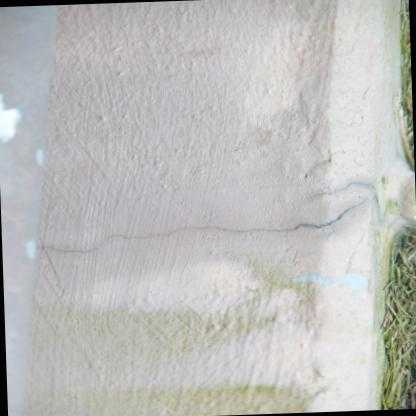crack: (35, 197, 368, 258)
